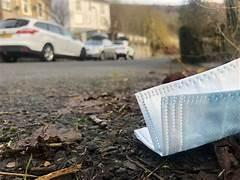Mask: (135, 60, 239, 155)
